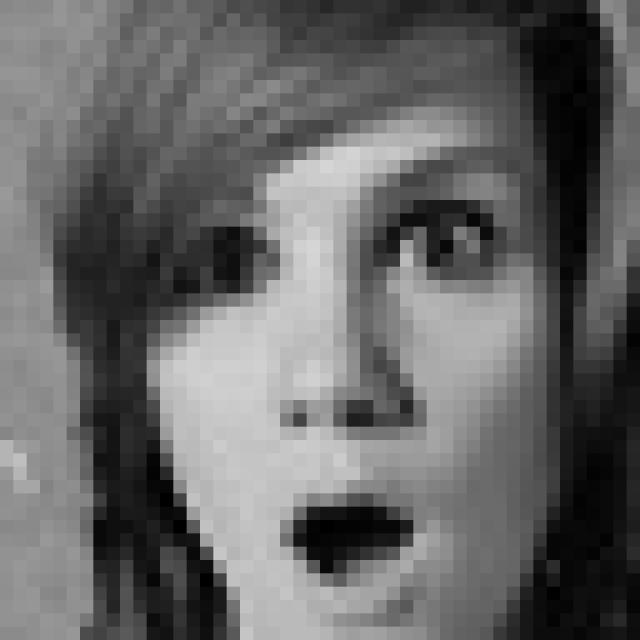surprise: (174, 132, 528, 618)
